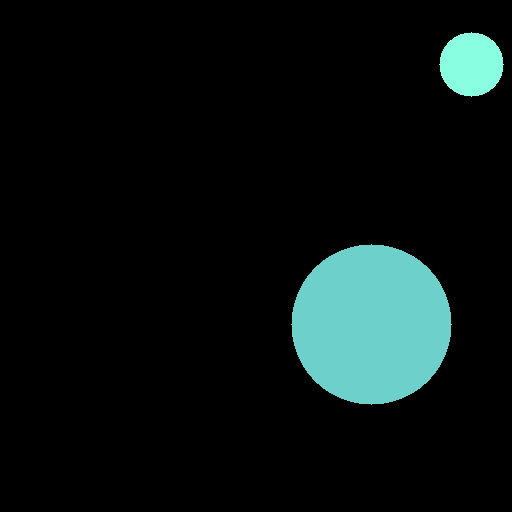circle: (291, 244, 451, 404), (439, 32, 503, 96)
